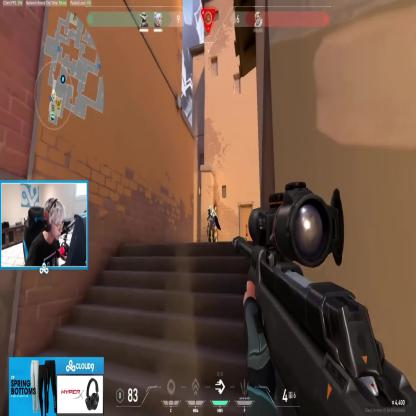enemy: (206, 206, 216, 242)
enemy_head: (209, 206, 212, 212)
